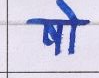e_matra: (55, 1, 82, 20)
